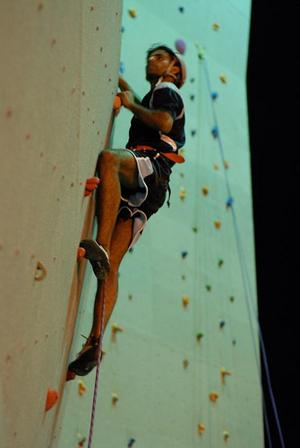person: (68, 43, 187, 378)
